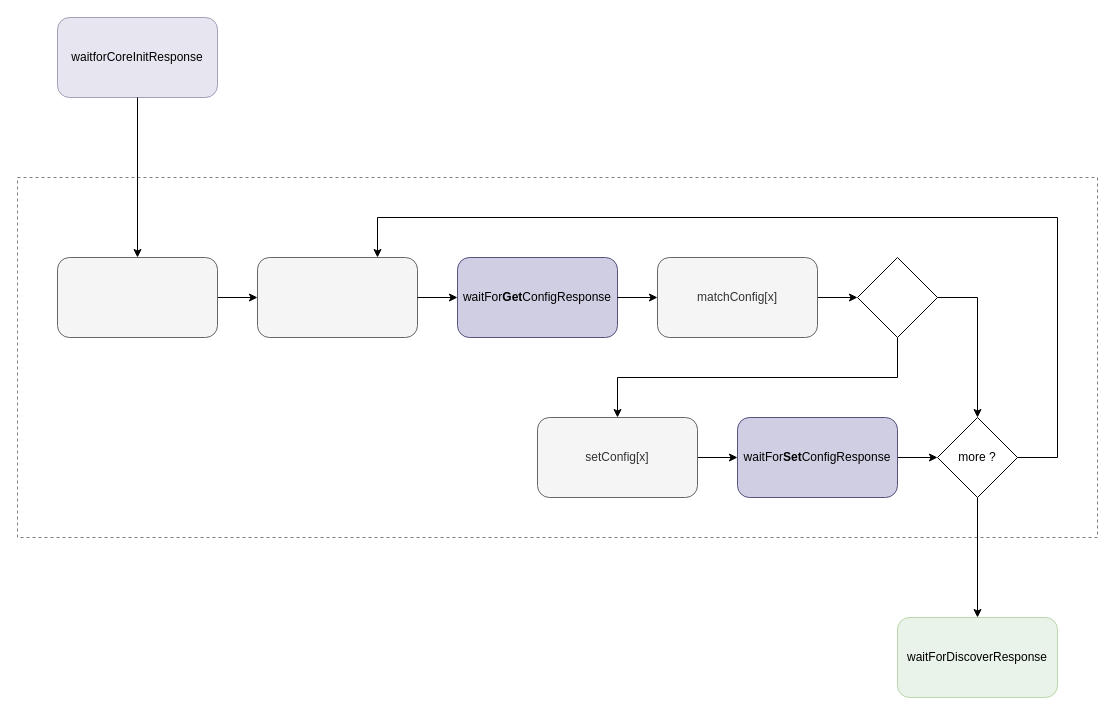
This 1115x715 diagram has some shape labels left out. Here are the shapes that lost their labels. From the top down, the centre of each, then its label:
the point at 137,297: getConfigStart
the point at 337,297: getConfigNext
the point at 897,297: match ?
